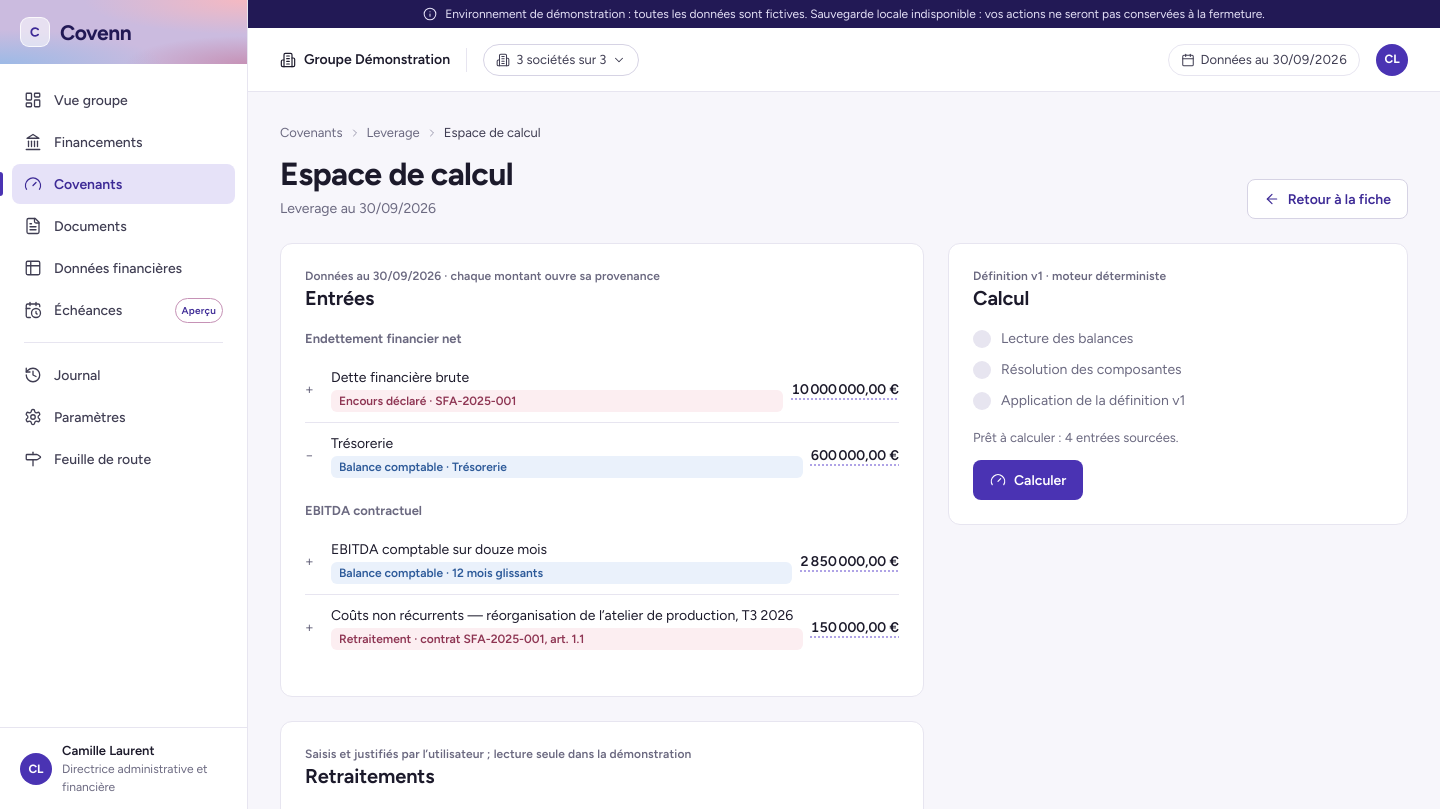
Espace de calcul › « Calculer » déroule les étapes puis affiche le résultat du moteur, enregistrable
Click the button "Calculer". click: x=1028, y=480
box: [973,460,1083,500]
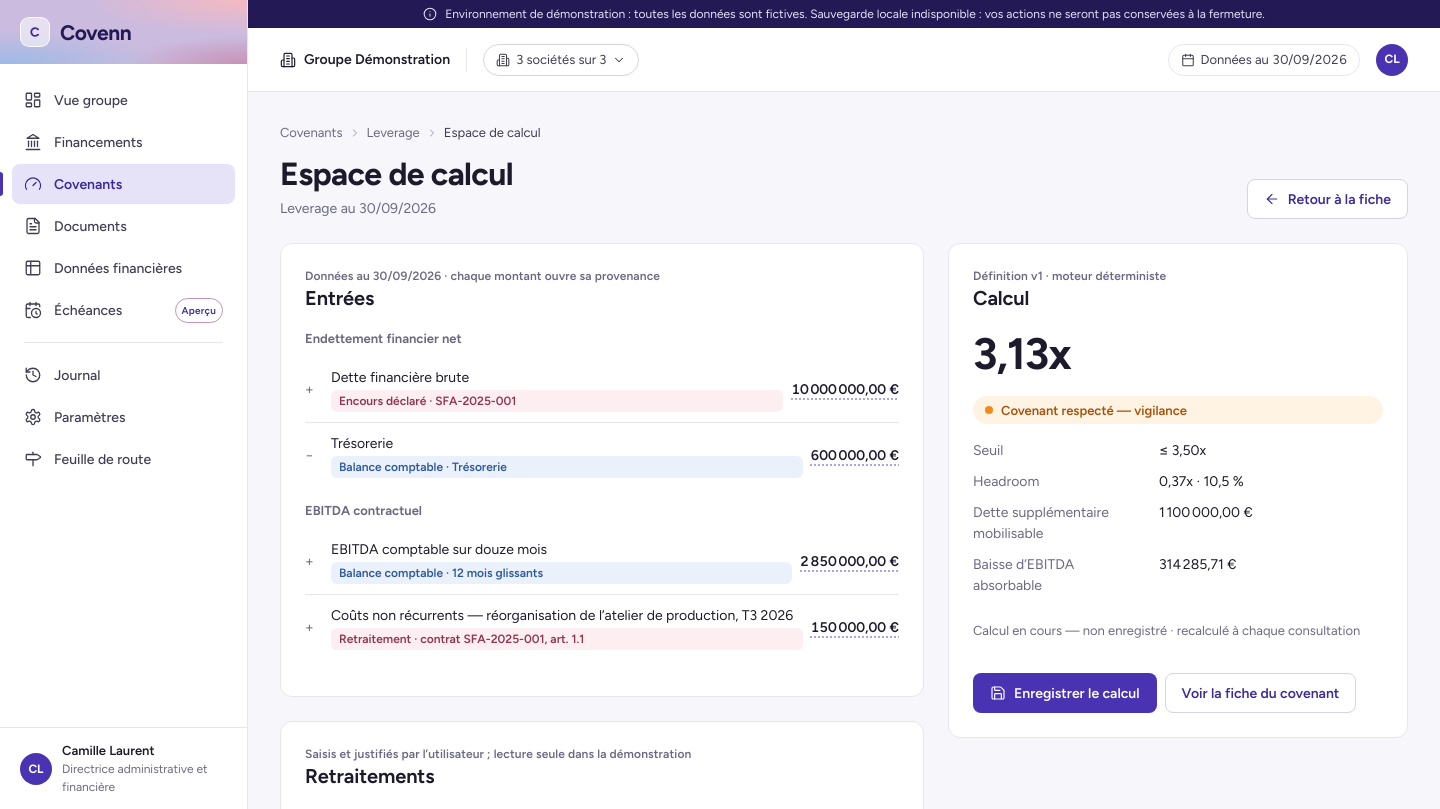
Check: the text "Covenant respecté — vigilance" is shown, box [973,396,1383,424]
Check: the text "3,13x" is shown, box [973,327,1071,380]
Check: the text "0,37x · 10,5 %" is shown, box [1159,473,1244,490]
